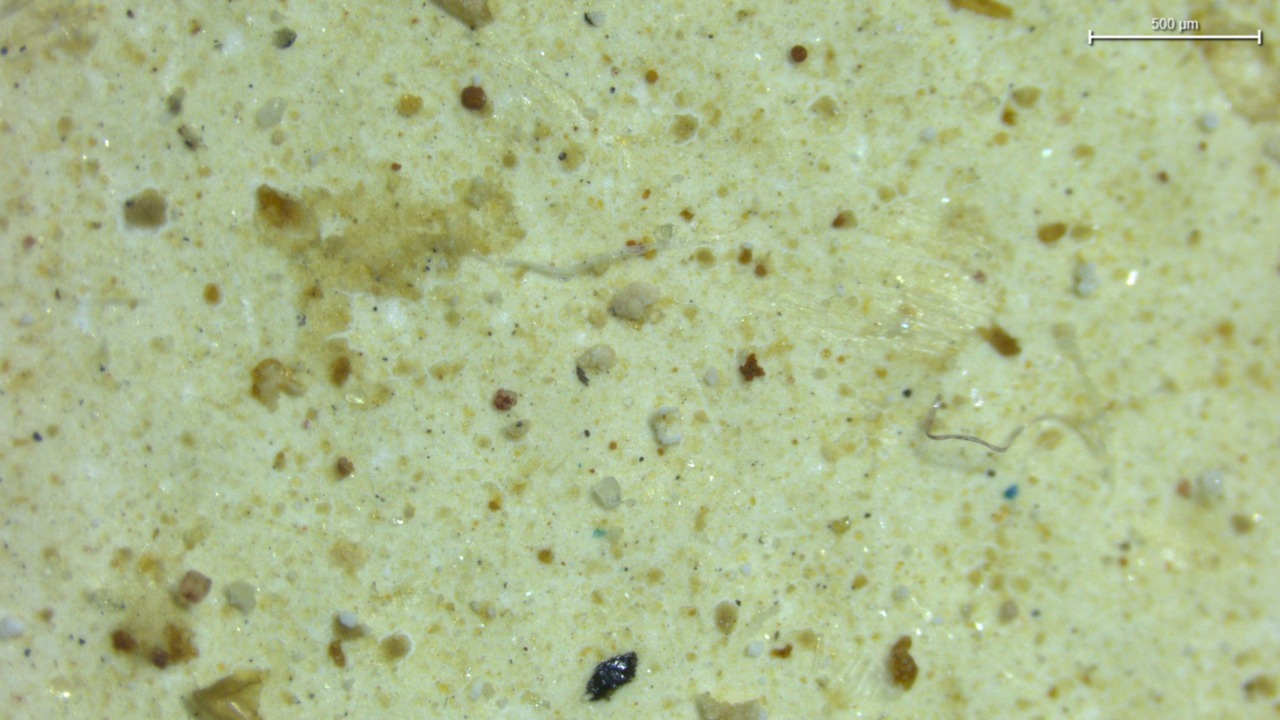microplastic_fragment: (610, 282, 659, 319), (650, 407, 681, 448), (577, 345, 616, 373), (590, 477, 622, 509)
